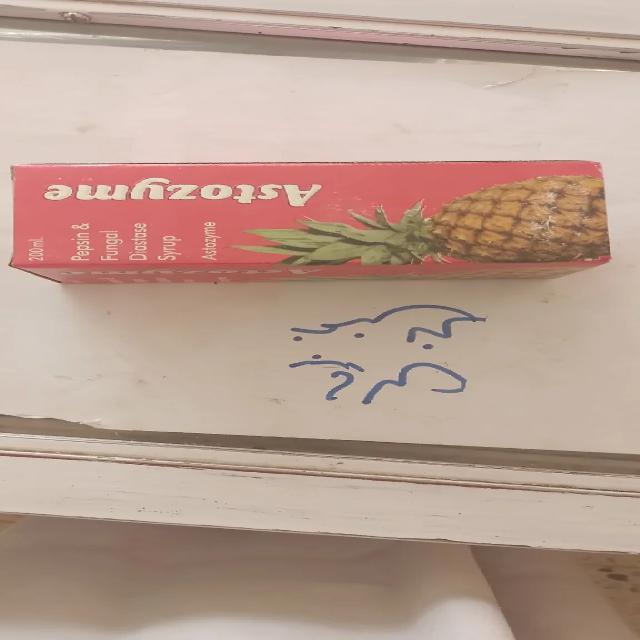drug-name: (40, 175, 322, 210)
